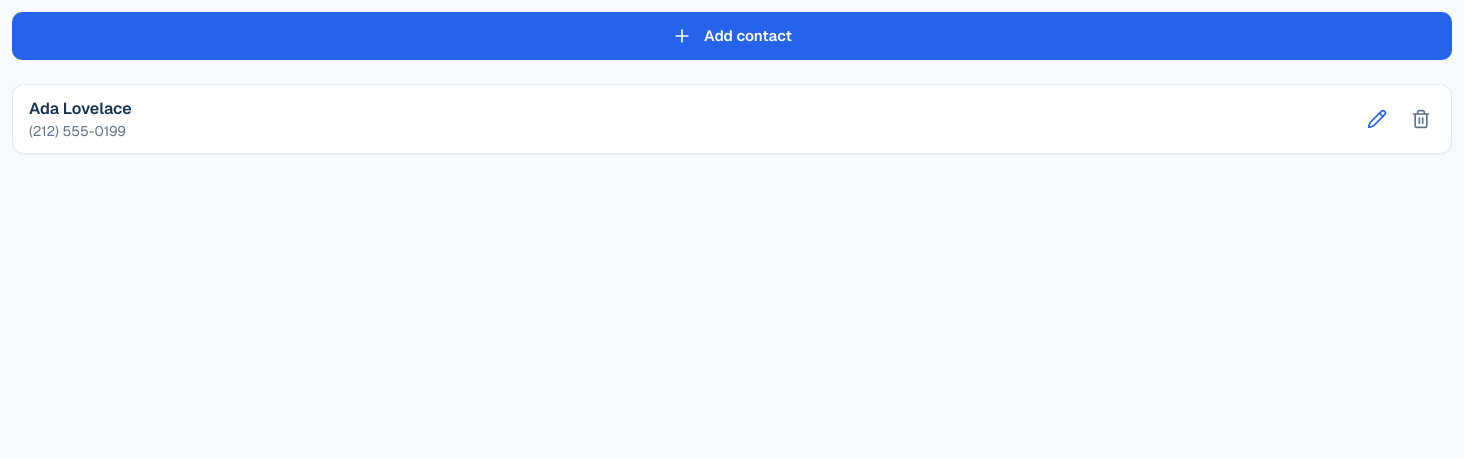
ContactManager › deletes an existing contact from the edit form
What coordinates should you click on to do the following:
click the button "Ada Lovelace (212) 555-0199"
I would click on:
 (80, 108)
Its box is [13,85,1355,153].
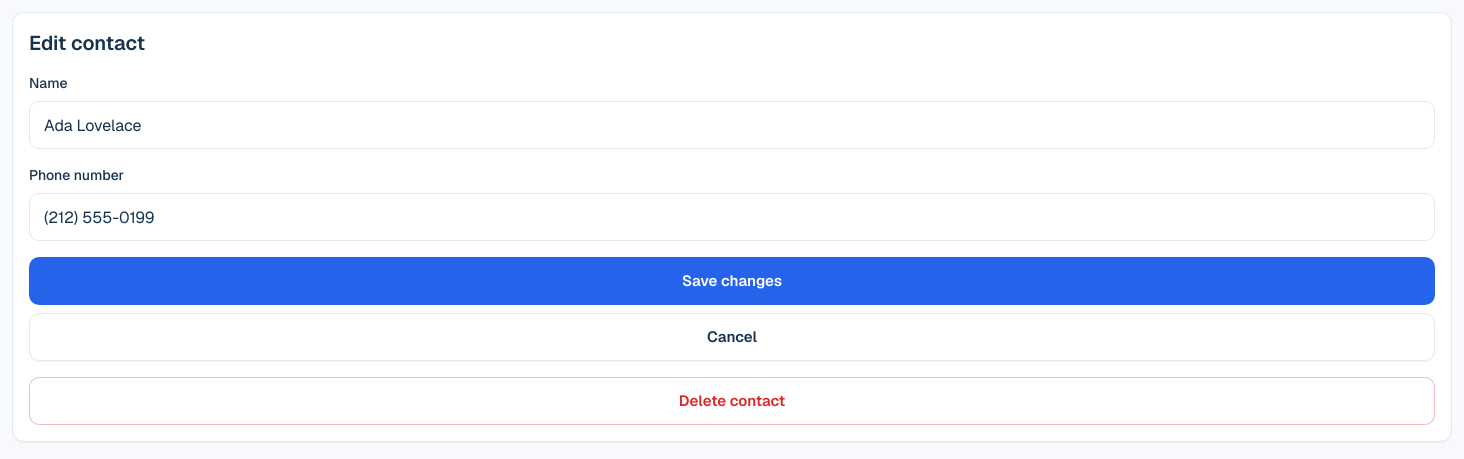
What coordinates should you click on to do the following:
click the button "Delete contact"
I would click on:
 (732, 401)
Its box is [29,377,1435,425].
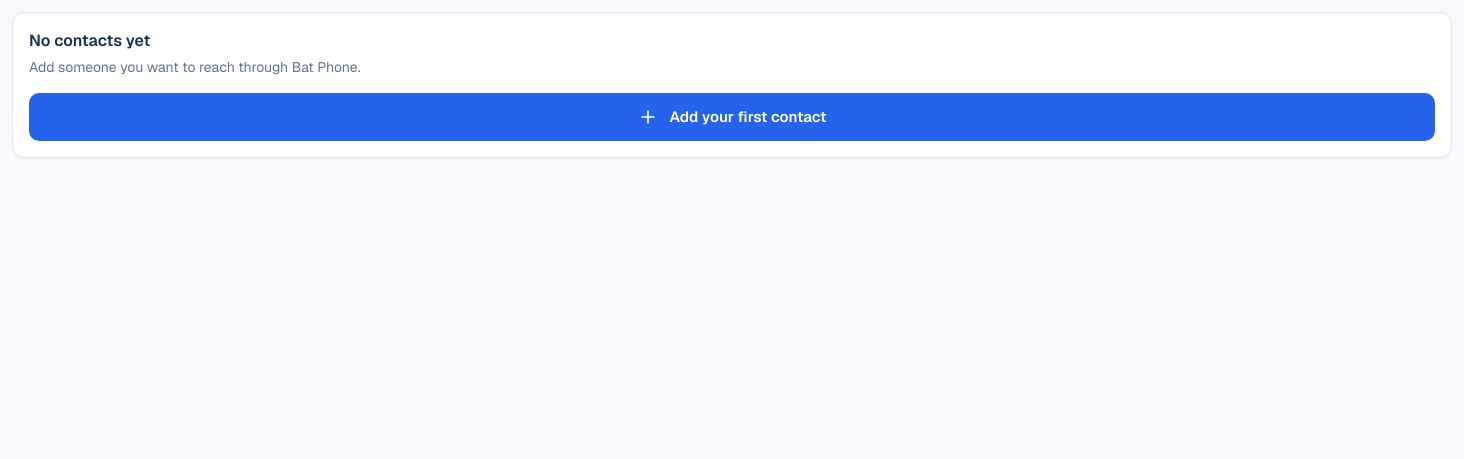
Expected: the button "Ada Lovelace" is not shown
Expected: the heading "No contacts yet" is shown, [29,30,150,51]
